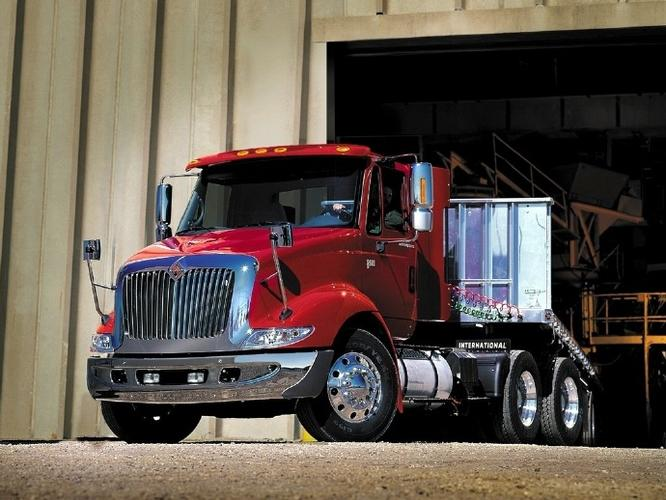卡车: (85, 134, 602, 445)
